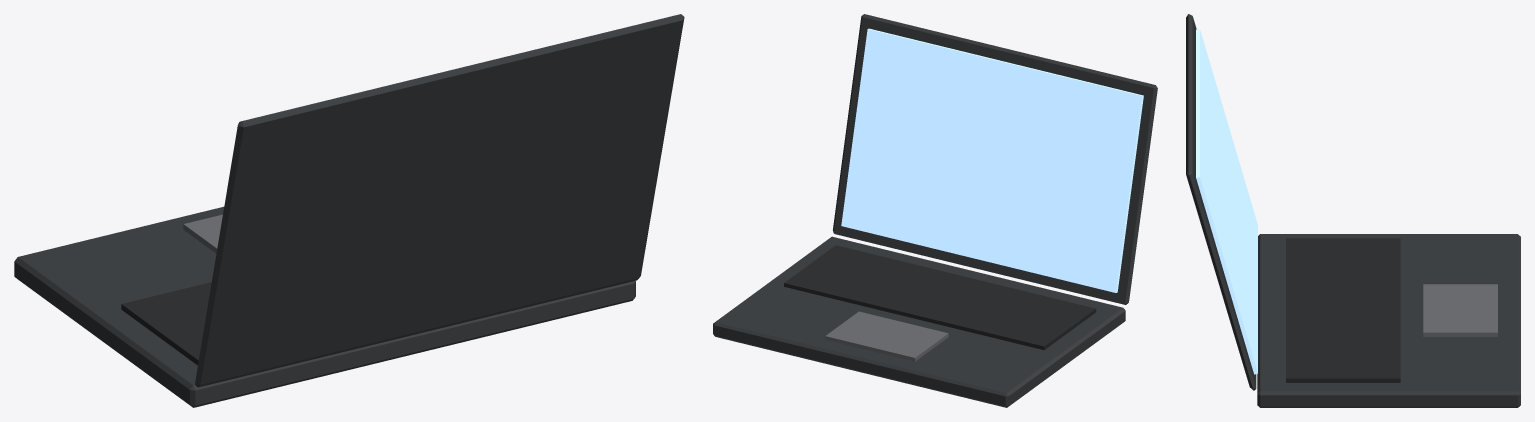
File: prop_laptop.glb
3 renders of one model, left to right at view 1: azimuth 30°, elevation 25°; view 2: azimuth 150°, elevation 25°; view 3: azimuth 270°, elevation 25°, orthographic. The views are drawn at different scales.
Parts seen in each view (by area): view 1: Laptop; view 2: Laptop; view 3: Laptop.
Part boxes in pixels (box(x1,y1,x2,y2)): Laptop: box(14, 14, 684, 407); Laptop: box(713, 14, 1157, 407); Laptop: box(1186, 14, 1520, 407).
Bounding box in the file's own units: 0.33 × 0.2278 × 0.2921.
